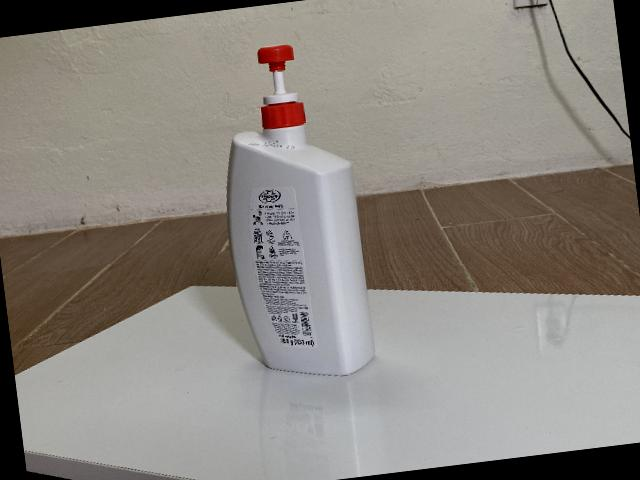life-buoy: (226, 44, 375, 376)
